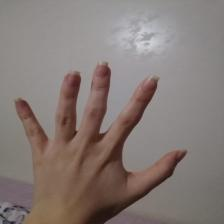five: (13, 62, 191, 212)
